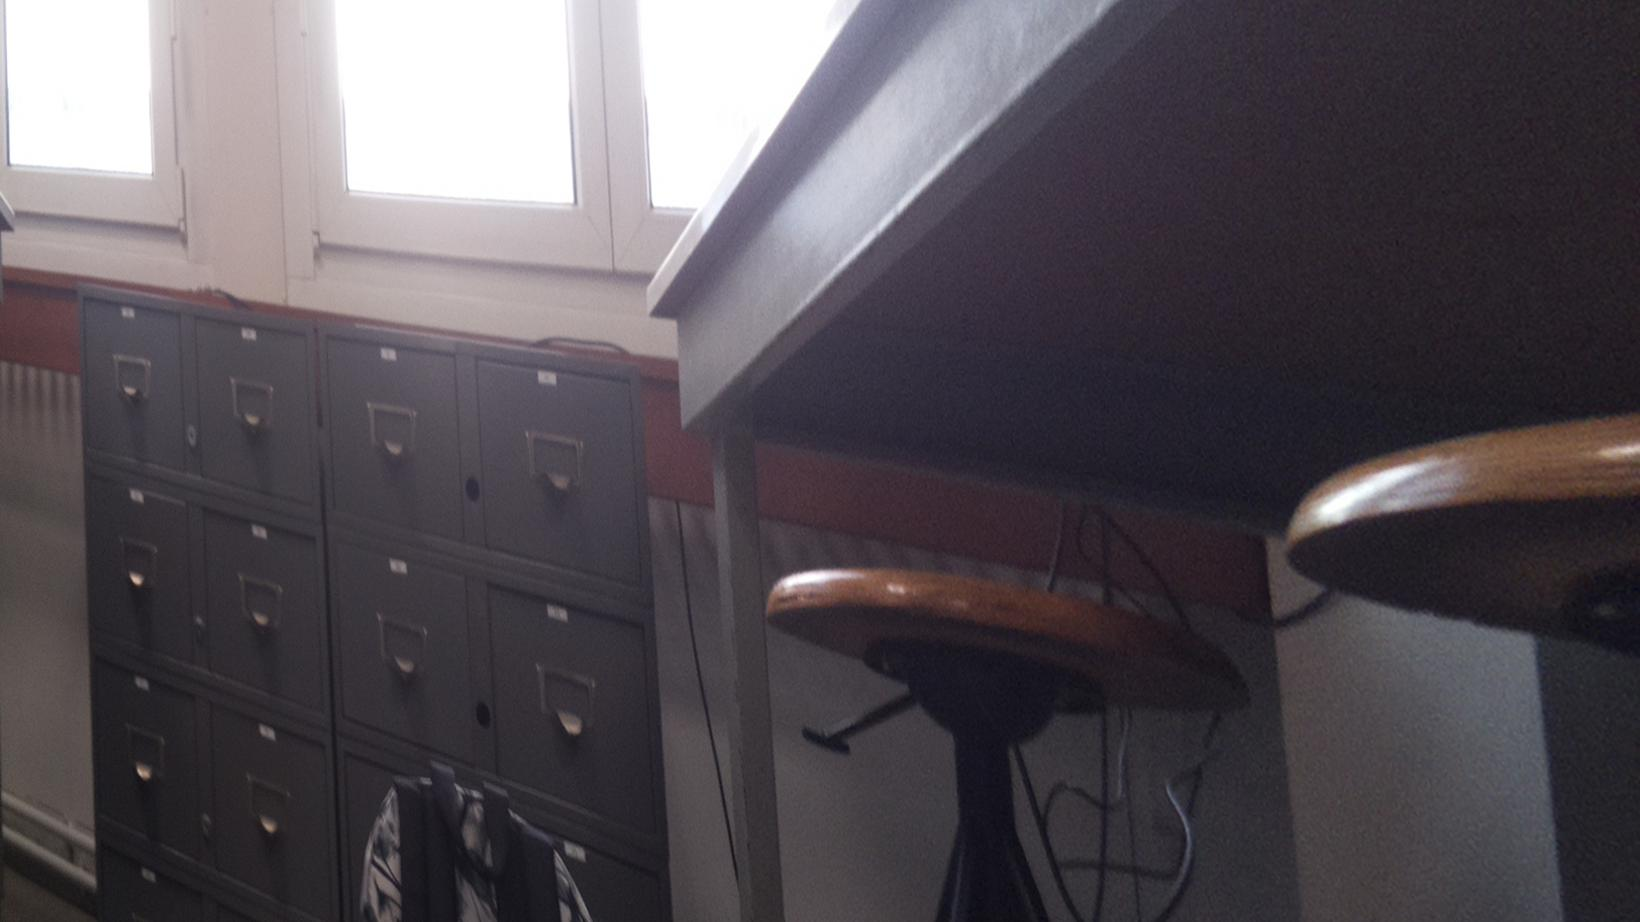big: (360, 773, 588, 922)
